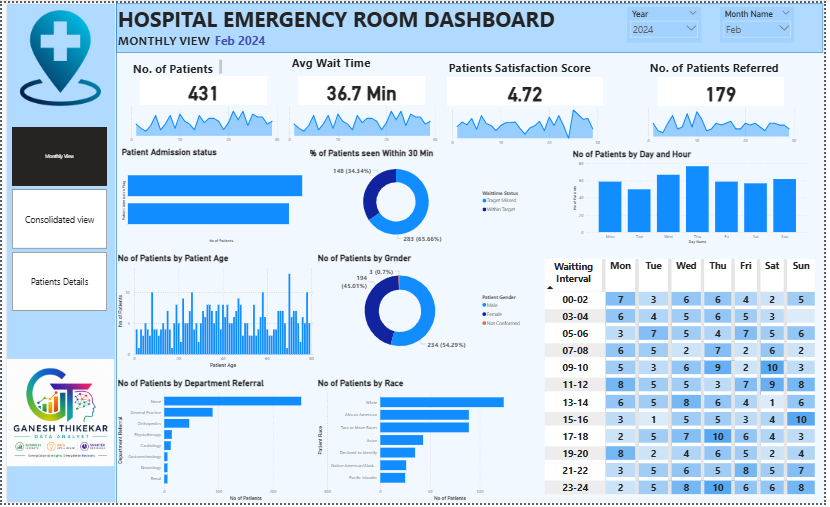

Layout of this report page (visuals, bound fields, positions):
{"tool":"powerbi","page":{"name":"Monthly View","canvas":[2300,1400],"ordinal":0},"visuals":[{"type":"shape","box":[10,0,310,1400],"z":0},{"type":"shape","box":[319.9,0,1980.1,140],"z":1000},{"type":"textbox","box":[319.9,0,1403.5,111.7],"z":2000},{"type":"textbox","box":[319.9,75.5,301.8,69.4],"z":3000},{"type":"card","fields":{"Values":["Hospital ER_Data.No of Patients"]},"box":[386.4,205.2,356.2,81.5],"z":4000},{"type":"slicer","fields":{"Values":["Date Table.Year"]},"box":[1750.7,12.1,208.3,99.6],"z":5000},{"type":"slicer","fields":{"Values":["Date Table.Month Name"]},"box":[2010.2,12.1,208.3,99.6],"z":6000},{"type":"textbox","box":[362.2,153.9,259.6,51.3],"z":7000},{"type":"areaChart","fields":{"Category":["Date Table.Date.Variation.Date Hierarchy.Day"],"Y":["Hospital ER_Data.No of Patients"]},"box":[347.1,277.7,437.7,123.8],"z":8000},{"type":"card","fields":{"Values":["Min(Date Table.Month & Year)"]},"box":[549.3,63.4,235.4,81.5],"z":9000},{"type":"card","fields":{"Values":["Date Table.Patients Satisfaction Score"]},"box":[1246.7,206.7,436.7,80],"z":10000},{"type":"textbox","box":[1246.7,153.3,476.7,53.3],"z":11000},{"type":"areaChart","fields":{"Category":["Date Table.Date.Variation.Date Hierarchy.Day"],"Y":["Date Table.Patients Satisfaction Score"]},"box":[1246.7,286.7,436.7,123.3],"z":12000},{"type":"card","fields":{"Values":["Date Table.Avg Wait Time"]},"box":[828.9,204.1,356.2,81.5],"z":13000},{"type":"textbox","box":[805.9,138.8,259.6,66.4],"z":14000},{"type":"areaChart","fields":{"Category":["Date Table.Date.Variation.Date Hierarchy.Day"],"Y":["Hospital ER_Data.No of Patients"]},"box":[789.7,276.6,437.7,123.8],"z":15000},{"type":"card","fields":{"Values":["Date Table.No of Patient Referred"]},"box":[1833.1,206.2,356.2,81.5],"z":16000},{"type":"textbox","box":[1810,153.3,406.7,53.3],"z":17000},{"type":"areaChart","fields":{"Category":["Date Table.Date.Variation.Date Hierarchy.Day"],"Y":["Date Table.No of Patient Referred"]},"box":[1793.9,278.6,437.7,123.8],"z":18000},{"type":"barChart","title":"Patient Admission status","fields":{"Y":["Hospital ER_Data.No of Patients"],"Category":["Hospital ER_Data.Patient Admission Flag"]},"box":[330,403.3,550,273.3],"z":19000},{"type":"clusteredColumnChart","fields":{"Category":["Hospital ER_Data.Patient Age"],"Y":["Hospital ER_Data.No of Patients"]},"box":[320,700,560,326.7],"z":20000},{"type":"clusteredBarChart","fields":{"Category":["Hospital ER_Data.Department Referral"],"Y":["Hospital ER_Data.No of Patients"]},"box":[320,1050,606.7,350],"z":21000},{"type":"donutChart","title":"% of Patients seen Within 30 Min","fields":{"Category":["Hospital ER_Data.Waittime Status"],"Y":["Hospital ER_Data.No of Patients"]},"box":[856.8,406,607.6,274.4],"z":22000},{"type":"donutChart","title":"No of Patients by Grnder","fields":{"Y":["Hospital ER_Data.No of Patients"],"Category":["Hospital ER_Data.Patient Gender"]},"box":[879.2,700,585.2,296.8],"z":23000},{"type":"clusteredBarChart","title":"No of Patients by Race","fields":{"Y":["Hospital ER_Data.No of Patients"],"Category":["Hospital ER_Data.Patient Race"]},"box":[879.2,1050,585.2,350],"z":24000},{"type":"pivotTable","fields":{"Rows":["Hospital ER_Data.Waitting Interval"],"Columns":["Date Table.Day Name"],"Values":["Hospital ER_Data.No of Patients"]},"box":[1514.8,711.2,784,688.8],"z":25000},{"type":"columnChart","title":"No of Patients by Day and Hour","fields":{"Category":["Date Table.Day Name"],"Y":["Hospital ER_Data.No of Patients"]},"box":[1593.2,408.8,669.2,271.6],"z":26000},{"type":"image","box":[14,19.6,299.6,268.8],"z":27000},{"type":"pageNavigator","box":[28,347.2,266,515.2],"z":28000},{"type":"image","box":[14,996.8,299.6,299.6],"z":28001}]}

Visuals, with their boxes in screenshot pixels (x1, y1, x2, y2), scaled from the page's 2300x1400 canvas onto the 830x507 screenshot:
shape: (left=4, top=0, right=115, bottom=506)
shape: (left=115, top=0, right=829, bottom=51)
textbox: (left=115, top=0, right=622, bottom=40)
textbox: (left=115, top=27, right=224, bottom=52)
card - Hospital ER_Data.No of Patients: (left=139, top=74, right=268, bottom=104)
slicer - Date Table.Year: (left=632, top=4, right=707, bottom=40)
slicer - Date Table.Month Name: (left=725, top=4, right=801, bottom=40)
textbox: (left=131, top=56, right=224, bottom=74)
areaChart - Date Table.Date.Variation.Date Hierarchy.Day x Hospital ER_Data.No of Patients: (left=125, top=101, right=283, bottom=145)
card - Min(Date Table.Month & Year): (left=198, top=23, right=283, bottom=52)
card - Date Table.Patients Satisfaction Score: (left=450, top=75, right=607, bottom=104)
textbox: (left=450, top=56, right=622, bottom=75)
areaChart - Date Table.Date.Variation.Date Hierarchy.Day x Date Table.Patients Satisfaction Score: (left=450, top=104, right=607, bottom=148)
card - Date Table.Avg Wait Time: (left=299, top=74, right=428, bottom=103)
textbox: (left=291, top=50, right=385, bottom=74)
areaChart - Date Table.Date.Variation.Date Hierarchy.Day x Hospital ER_Data.No of Patients: (left=285, top=100, right=443, bottom=145)
card - Date Table.No of Patient Referred: (left=662, top=75, right=790, bottom=104)
textbox: (left=653, top=56, right=800, bottom=75)
areaChart - Date Table.Date.Variation.Date Hierarchy.Day x Date Table.No of Patient Referred: (left=647, top=101, right=805, bottom=146)
"Patient Admission status" barChart: (left=119, top=146, right=318, bottom=245)
clusteredColumnChart - Hospital ER_Data.Patient Age x Hospital ER_Data.No of Patients: (left=115, top=254, right=318, bottom=372)
clusteredBarChart - Hospital ER_Data.Department Referral x Hospital ER_Data.No of Patients: (left=115, top=380, right=334, bottom=506)
"% of Patients seen Within 30 Min" donutChart: (left=309, top=147, right=528, bottom=246)
"No of Patients by Grnder" donutChart: (left=317, top=254, right=528, bottom=361)
"No of Patients by Race" clusteredBarChart: (left=317, top=380, right=528, bottom=506)
pivotTable - Hospital ER_Data.Waitting Interval x Date Table.Day Name: (left=547, top=258, right=829, bottom=506)
"No of Patients by Day and Hour" columnChart: (left=575, top=148, right=816, bottom=246)
image: (left=5, top=7, right=113, bottom=104)
pageNavigator: (left=10, top=126, right=106, bottom=312)
image: (left=5, top=361, right=113, bottom=469)
